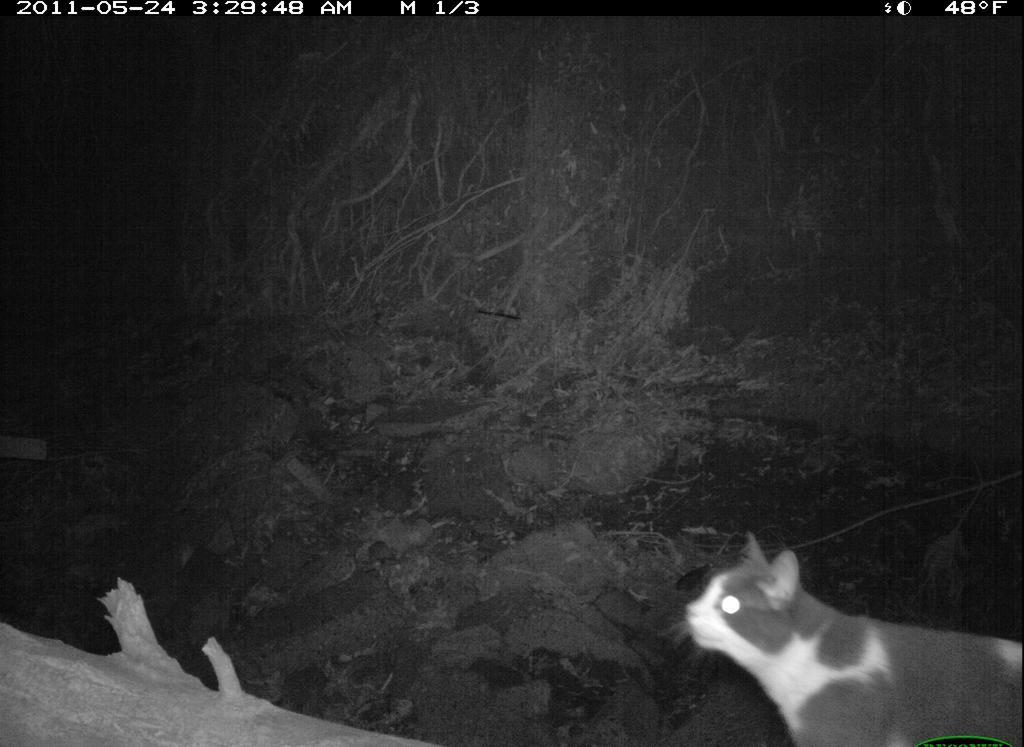cat: (652, 507, 1023, 739)
